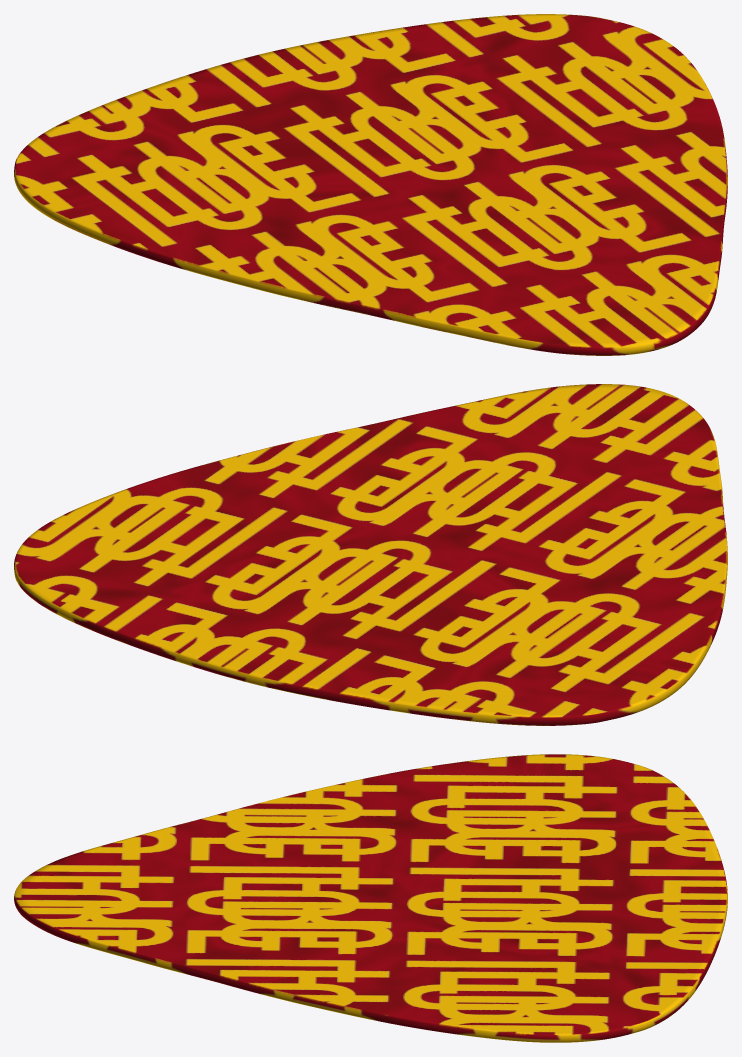
The model's file is Pua.glb.
3 renders of one model, top to bottom at view 1: azimuth 30°, elevation 25°; view 2: azimuth 150°, elevation 25°; view 3: azimuth 270°, elevation 25°, orthographic. The views are drawn at different scales.
Parts seen in each view (by area): view 1: Plane; view 2: Plane; view 3: Plane.
Part boxes in pixels (x1=…): Plane: x1=14, y1=14, x2=727, y2=355; Plane: x1=14, y1=384, x2=727, y2=725; Plane: x1=14, y1=754, x2=727, y2=1042.
Size of the model in its own units: 1.56 by 0.0203 by 1.67.
1 material, 1 textured.
